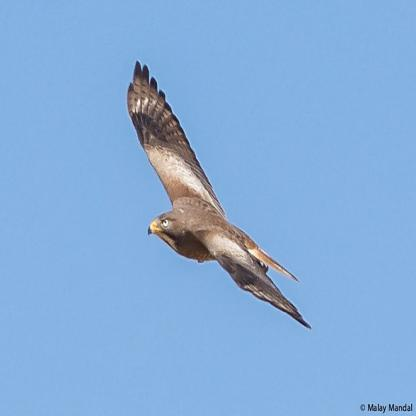Burung: (123, 61, 314, 333)
